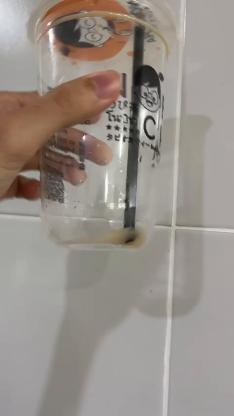Plastic Cup: (30, 0, 176, 250)
